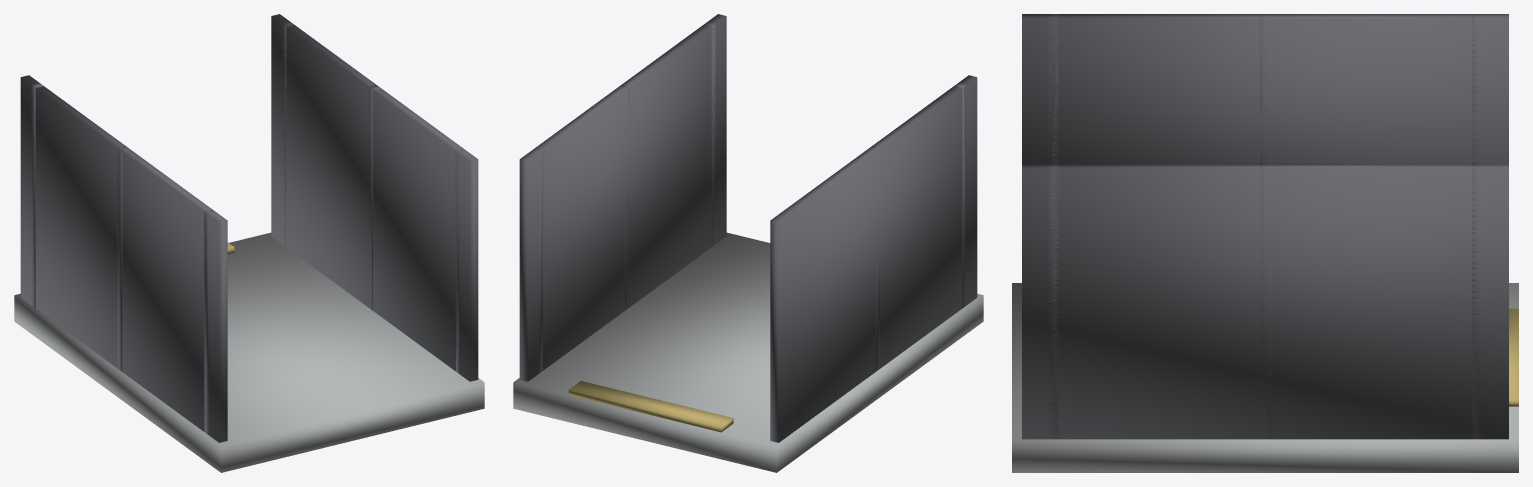
File: floor_w125_d170_sides.glb
The picture shows the model from 3 angles, left to right: view 1: azimuth 30°, elevation 25°; view 2: azimuth 150°, elevation 25°; view 3: azimuth 270°, elevation 25°; orthographic projection. The views are drawn at different scales.
Parts seen in each view (by area): view 1: world; view 2: world; view 3: world.
Part boxes in pixels (box(x1,y1,x2,y2)): world: box(14, 14, 484, 472); world: box(513, 14, 983, 472); world: box(1012, 14, 1518, 472).
Size of the model in its own units: 1.25 by 1.12 by 1.7.
